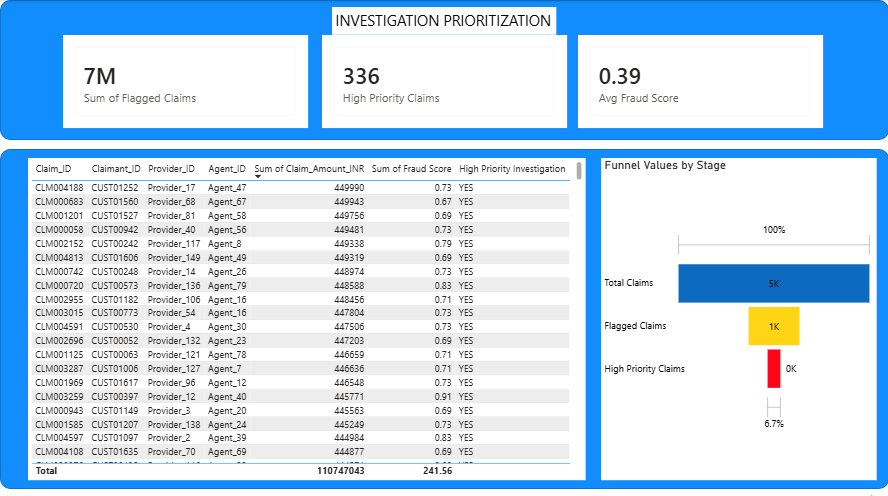

What the dashboard file says about the page in this screenshot:
{"tool":"powerbi","page":{"name":"Investigation Queue","canvas":[1280,720],"ordinal":4},"visuals":[{"type":"shape","box":[0,0,1280.2,201.6],"z":0},{"type":"textbox","box":[478.1,10.1,322.6,40.3],"z":1},{"type":"cardVisual","fields":{"Data":["Sum(Insurance_Fraud_Network_Dataset_5000_Leads.Flagged Claims)"]},"box":[90.7,50.4,352.8,133.9],"z":2},{"type":"cardVisual","fields":{"Data":["Insurance_Fraud_Network_Dataset_5000_Leads.High Priority Claims"]},"box":[463.7,50.4,352.8,133.9],"z":3},{"type":"cardVisual","fields":{"Data":["Insurance_Fraud_Network_Dataset_5000_Leads.Avg Fraud Score"]},"box":[832.3,50.4,352.8,133.9],"z":4},{"type":"shape","box":[0,214.6,1280.2,489.6],"z":5},{"type":"tableEx","fields":{"Values":["Insurance_Fraud_Network_Dataset_5000_Leads.Claim_ID","Insurance_Fraud_Network_Dataset_5000_Leads.Claimant_ID","Insurance_Fraud_Network_Dataset_5000_Leads.Provider_ID","Insurance_Fraud_Network_Dataset_5000_Leads.Agent_ID","Sum(Insurance_Fraud_Network_Dataset_5000_Leads.Claim_Amount_INR)","Sum(Insurance_Fraud_Network_Dataset_5000_Leads.Fraud Score)","Insurance_Fraud_Network_Dataset_5000_Leads.High Priority Investigation"]},"box":[40.3,227.3,802.8,464.3],"z":6},{"type":"funnel","fields":{"Category":["Funnel Stages.Stage"],"Y":["Insurance_Fraud_Network_Dataset_5000_Leads.Funnel Values"]},"box":[865.7,227.3,396.6,464.3],"z":7}]}

Visuals, with their boxes in screenshot pixels (x1, y1, x2, y2), scaled from the page's 1280x720 canvas onto the 888x496 screenshot:
shape: detection(0, 0, 887, 139)
textbox: detection(332, 7, 555, 35)
cardVisual - Sum(Insurance_Fraud_Network_Dataset_5000_Leads.Flagged Claims): detection(63, 35, 308, 127)
cardVisual - Insurance_Fraud_Network_Dataset_5000_Leads.High Priority Claims: detection(322, 35, 566, 127)
cardVisual - Insurance_Fraud_Network_Dataset_5000_Leads.Avg Fraud Score: detection(577, 35, 822, 127)
shape: detection(0, 148, 887, 485)
tableEx - Insurance_Fraud_Network_Dataset_5000_Leads.Claim_ID x Insurance_Fraud_Network_Dataset_5000_Leads.Claimant_ID: detection(28, 157, 585, 476)
funnel - Funnel Stages.Stage x Insurance_Fraud_Network_Dataset_5000_Leads.Funnel Values: detection(601, 157, 876, 476)
